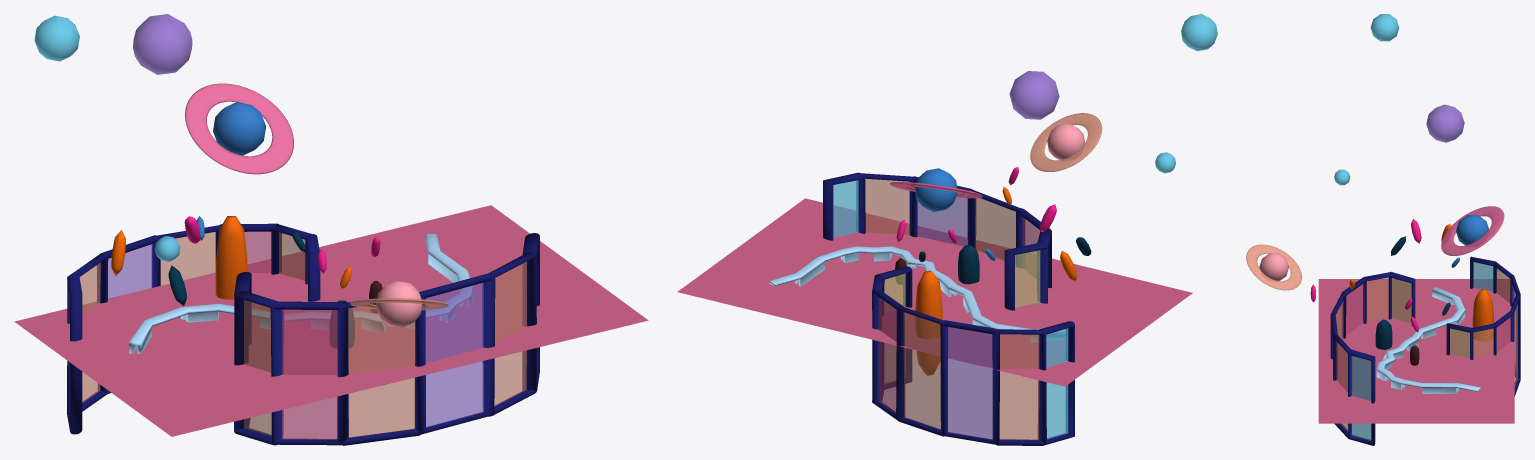
The model's file is Runway.fbx.
3 renders of one model, left to right at view 1: azimuth 30°, elevation 25°; view 2: azimuth 150°, elevation 25°; view 3: azimuth 270°, elevation 25°, orthographic. The views are drawn at different scales.
Visible parts, largest first — view 1: Plane, Cylinder, Torus.001, Cube, Icosphere.003, Icosphere.001, Cube.003, Icosphere.004, Icosphere.002, Torus; view 2: Cylinder, Plane, Cube, Icosphere.003, Cube.003, Torus, Icosphere.001, Icosphere.004, Icosphere.002, Cube.001, Torus.001; view 3: Plane, Cylinder, Cube, Torus.001, Torus, Icosphere.003, Cube.003, Icosphere.001, Icosphere.004, Icosphere.002, Cube.001.
Boxes of the visible parts, bbox=[...] form: Plane: bbox=[14, 205, 648, 436]; Cylinder: bbox=[67, 223, 539, 445]; Torus.001: bbox=[185, 83, 293, 174]; Cube: bbox=[129, 234, 472, 354]; Icosphere.003: bbox=[133, 14, 192, 74]; Icosphere.001: bbox=[213, 102, 266, 155]; Cube.003: bbox=[215, 216, 247, 299]; Icosphere.004: bbox=[34, 15, 79, 61]; Icosphere.002: bbox=[375, 280, 422, 327]; Torus: bbox=[350, 298, 448, 310]; Cylinder: bbox=[823, 172, 1074, 445]; Plane: bbox=[677, 198, 1192, 386]; Cube: bbox=[769, 246, 1065, 342]; Icosphere.003: bbox=[1009, 71, 1059, 119]; Cube.003: bbox=[915, 270, 942, 375]; Torus: bbox=[1030, 113, 1102, 171]; Icosphere.001: bbox=[914, 168, 957, 211]; Icosphere.004: bbox=[1181, 14, 1217, 51]; Icosphere.002: bbox=[1047, 123, 1084, 159]; Cube.001: bbox=[958, 244, 979, 284]; Torus.001: bbox=[889, 182, 983, 198]; Plane: bbox=[1318, 279, 1514, 423]; Cylinder: bbox=[1330, 256, 1520, 445]; Cube: bbox=[1376, 287, 1480, 393]; Torus.001: bbox=[1441, 206, 1504, 255]; Torus: bbox=[1246, 244, 1301, 290]; Icosphere.003: bbox=[1426, 104, 1464, 142]; Cube.003: bbox=[1472, 289, 1493, 341]; Icosphere.001: bbox=[1456, 215, 1488, 245]; Icosphere.004: bbox=[1370, 14, 1399, 41]; Icosphere.002: bbox=[1259, 253, 1288, 280]; Cube.001: bbox=[1375, 319, 1392, 349].
Bounding box in the file's own units: 4716 × 3958 × 3234.
